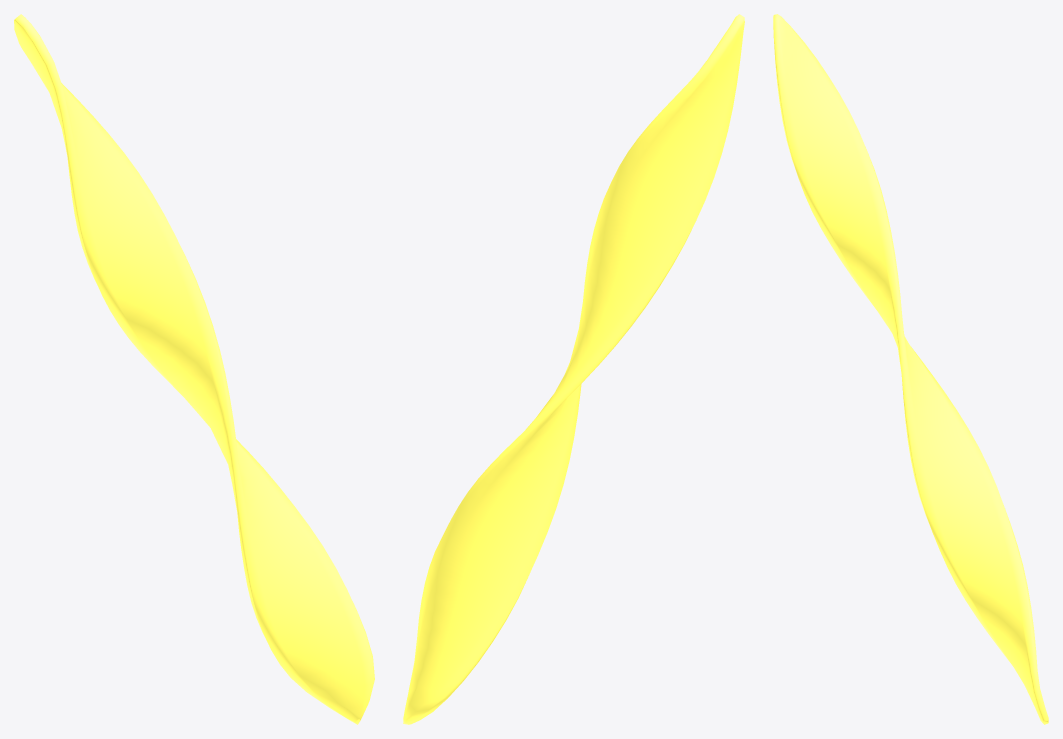
The model's file is Fusili.005.gltf.
3 views of the same model, side by side, from view 1: azimuth 30°, elevation 25°; view 2: azimuth 150°, elevation 25°; view 3: azimuth 330°, elevation 25° (orthographic). The views are drawn at different scales.
Parts seen in each view (by area): view 1: Fusili.005; view 2: Fusili.005; view 3: Fusili.005.
Boxes of the visible parts, x1,y1,x2,y2 form: Fusili.005: (14,14,374,724); Fusili.005: (403,14,744,724); Fusili.005: (773,14,1048,724).
Bounding box in the file's own units: 1.33 × 2.92 × 0.3169.
